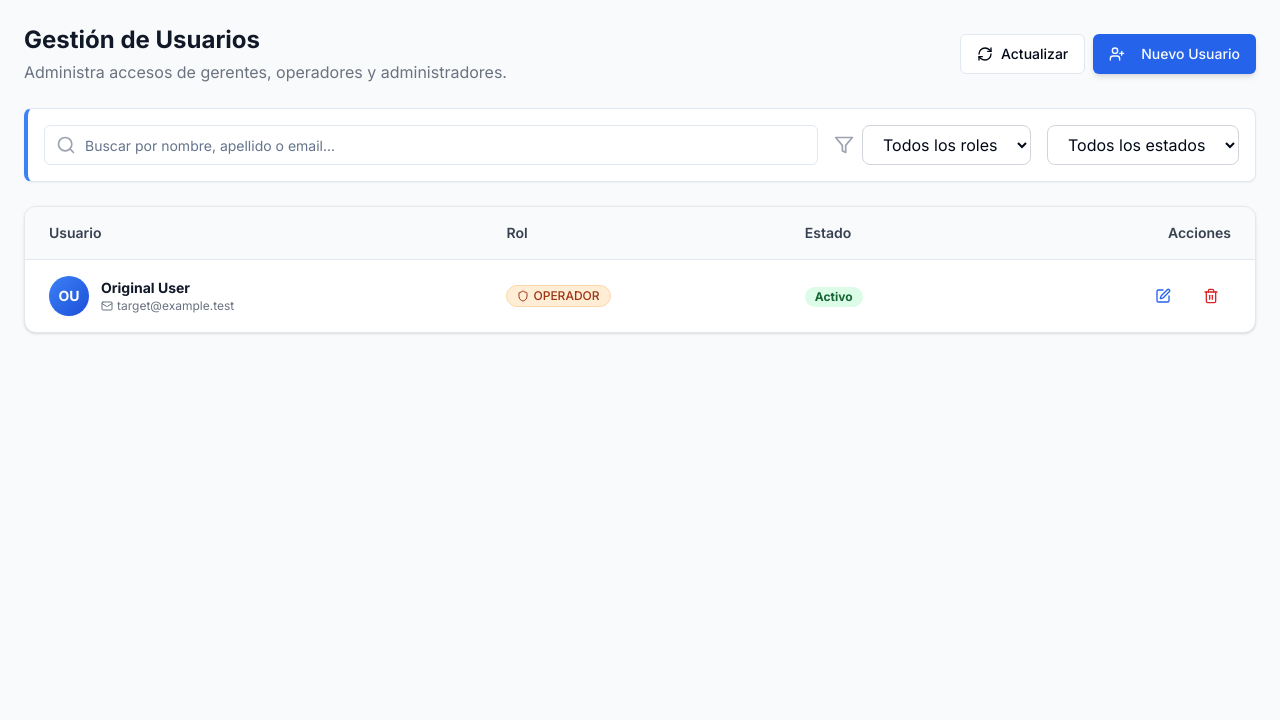
Test: blocks retries after a conflict until the confirmation is closed and reloaded
Click the button titled "Desactivar usuario" at (1211, 296), box x1=1191 y1=278 x2=1231 y2=314
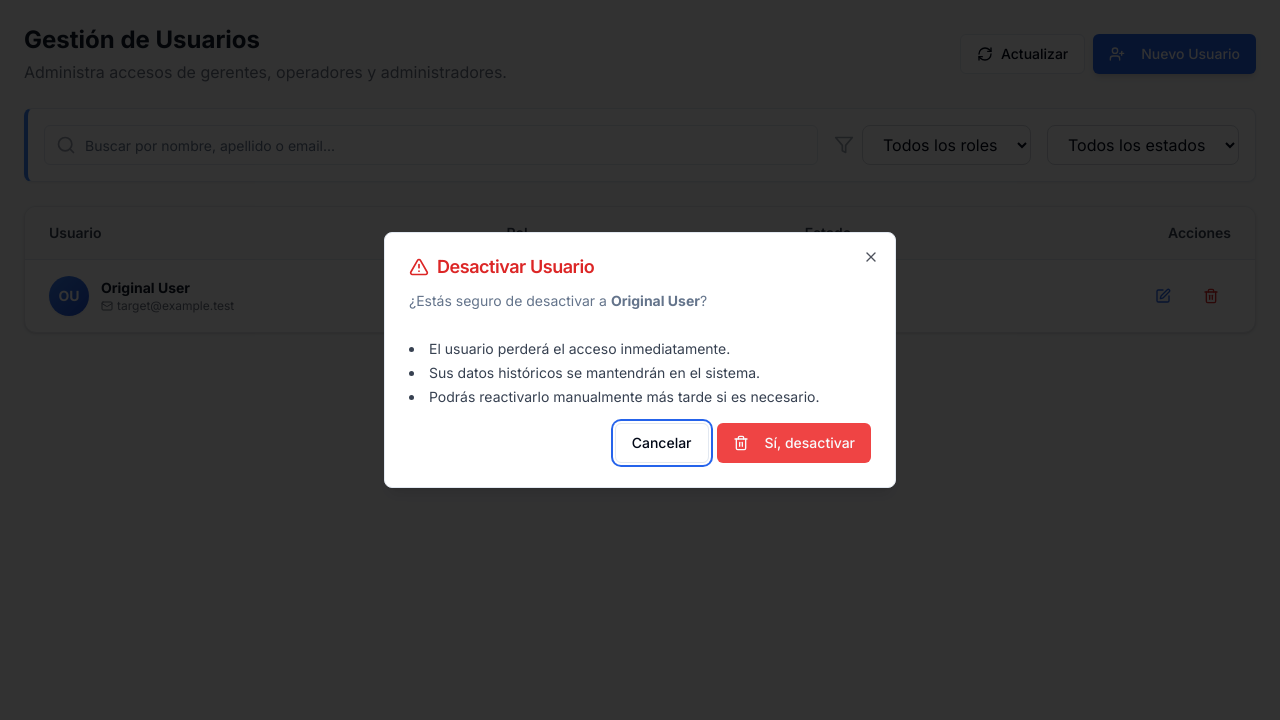
Click the button "Sí, desactivar" at (794, 443), box x1=716 y1=423 x2=871 y2=463
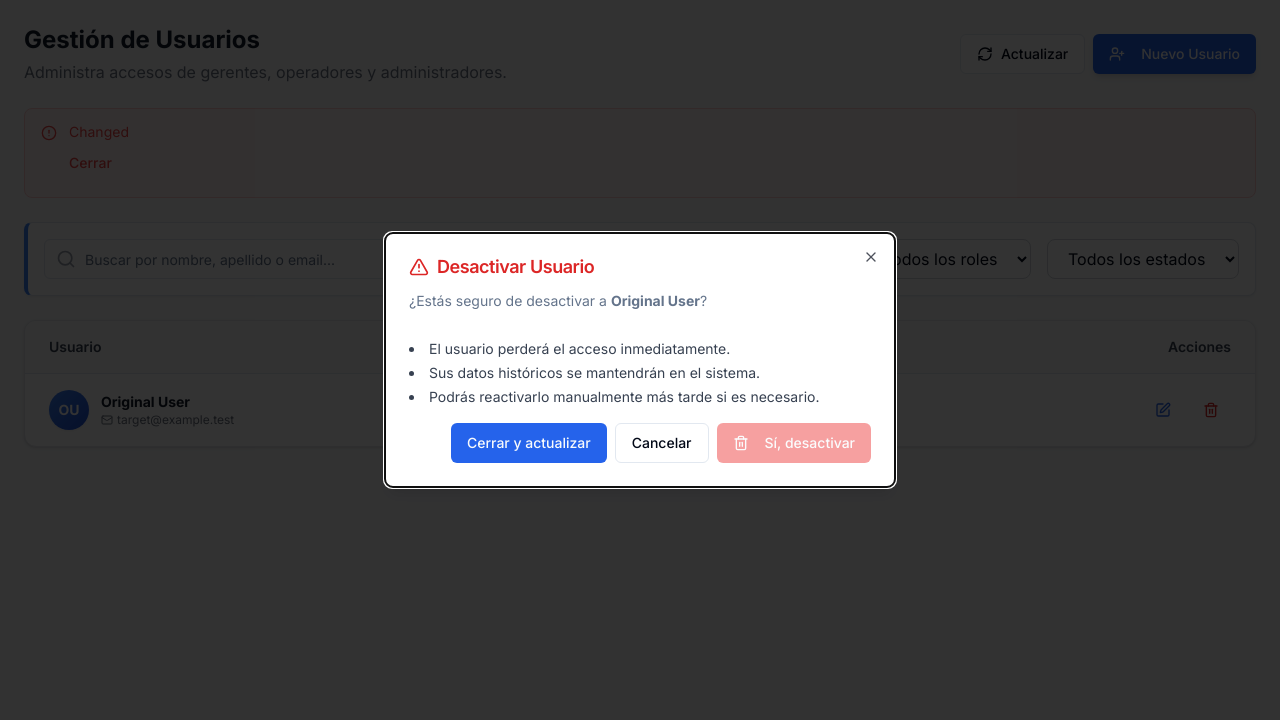
Expected: the button "Sí, desactivar" is disabled, x1=716 y1=423 x2=871 y2=463
Click the button "Cerrar y actualizar" at (529, 443), box x1=451 y1=423 x2=607 y2=463
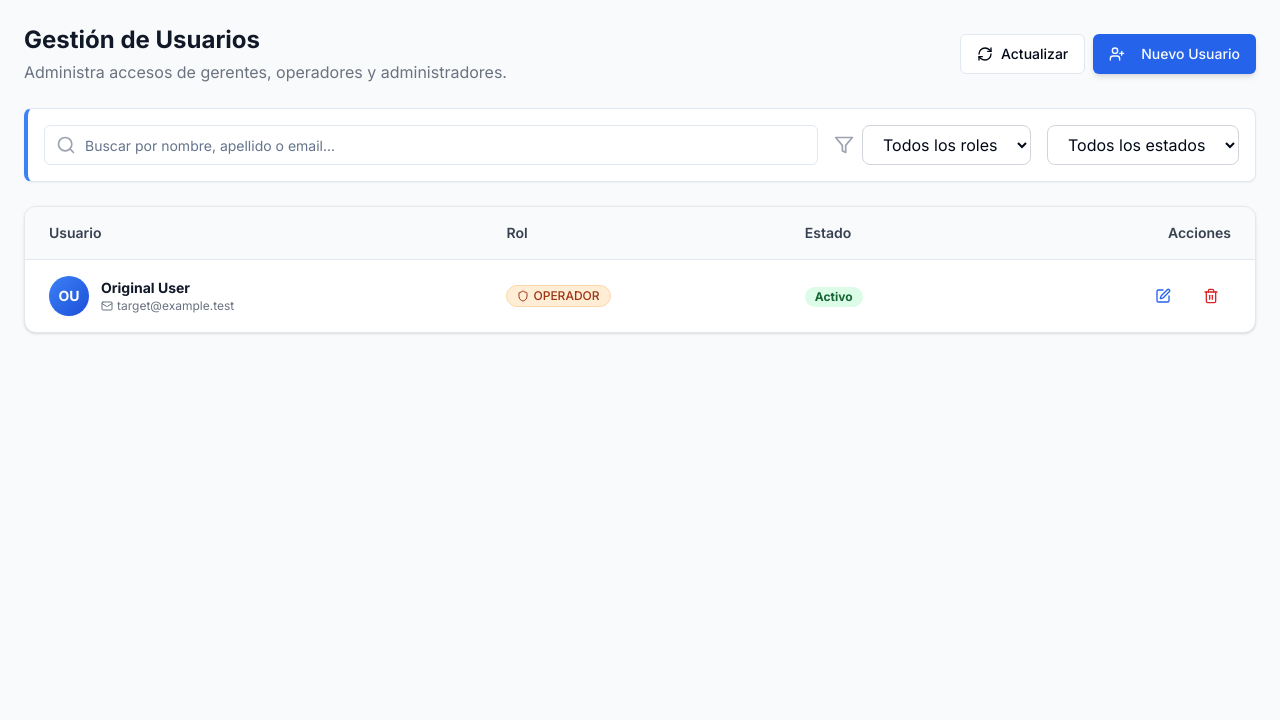
Expected: the dialog is gone
